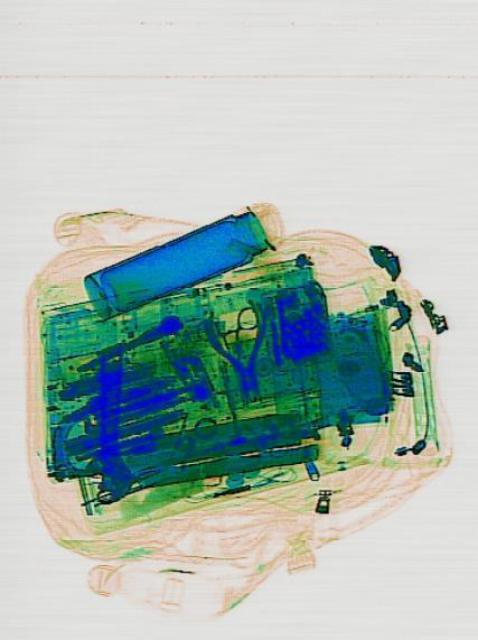Pliers: (198, 298, 286, 414)
